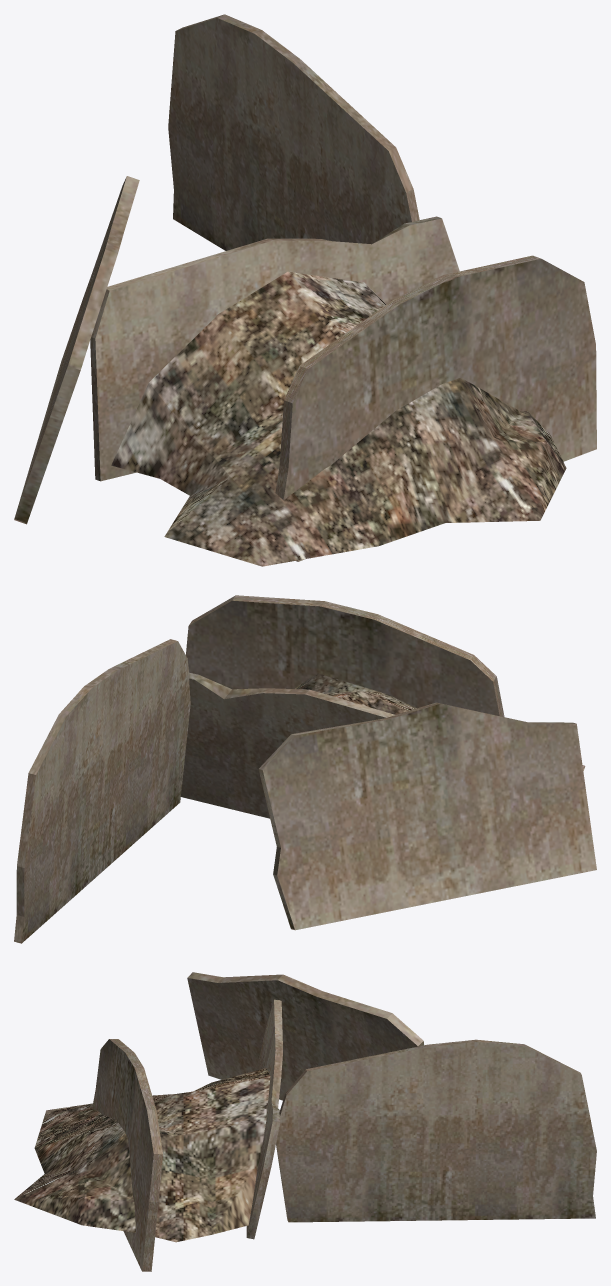
File: Rbl_P2.glb
3 renders of one model, top to bottom at view 1: azimuth 30°, elevation 25°; view 2: azimuth 150°, elevation 25°; view 3: azimuth 270°, elevation 25°, orthographic. The views are drawn at different scales.
Parts seen in each view (by area): view 1: _Rbl_P2; view 2: _Rbl_P2; view 3: _Rbl_P2.
Part boxes in pixels (x1,y1,x2,y2): _Rbl_P2: (14, 14, 596, 566); _Rbl_P2: (14, 595, 596, 943); _Rbl_P2: (14, 972, 596, 1271).
Bounding box in the file's own units: 5.48 × 2.7 × 7.2.
2 materials, 2 textured.
